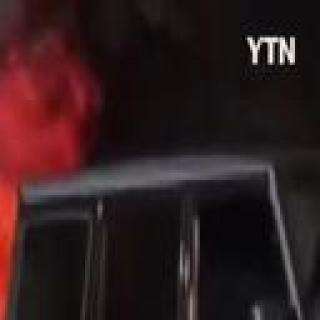fire: (0, 116, 87, 320)
